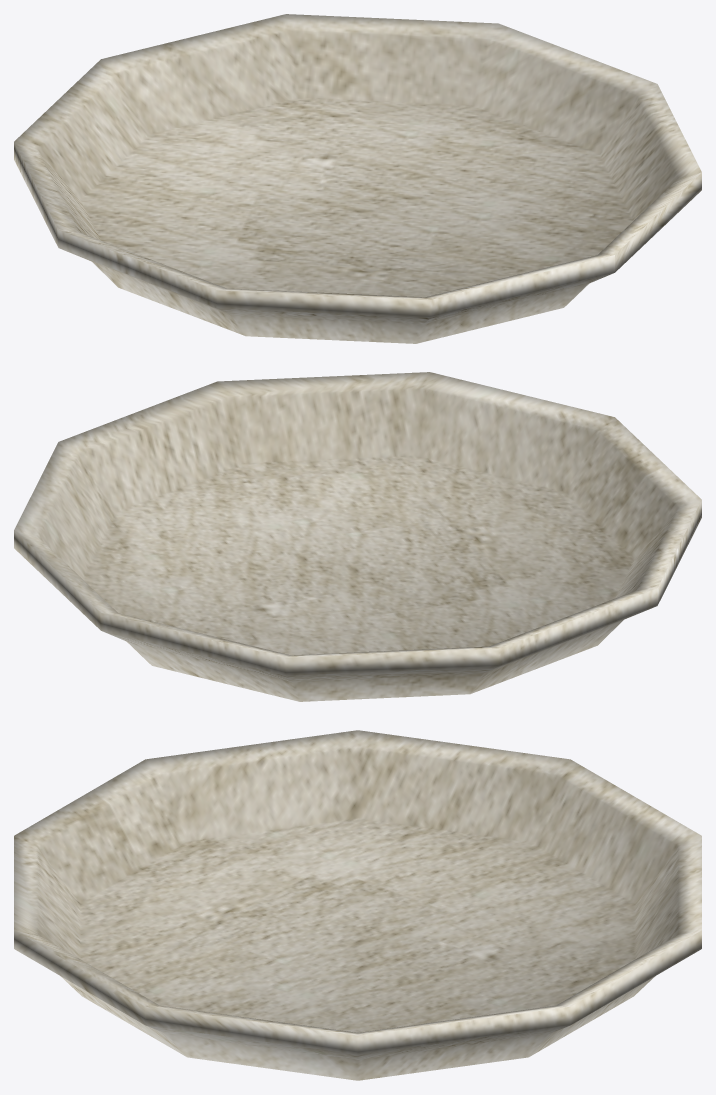
Rendered from dish.fbx.
3 renders of one model, top to bottom at view 1: azimuth 30°, elevation 25°; view 2: azimuth 150°, elevation 25°; view 3: azimuth 270°, elevation 25°, orthographic. The views are drawn at different scales.
Visible parts, largest first — view 1: dish; view 2: dish; view 3: dish.
Boxes of the visible parts, bbox=[...] form: dish: bbox=[14, 14, 701, 343]; dish: bbox=[14, 372, 701, 701]; dish: bbox=[14, 730, 701, 1080].
Size of the model in its own units: 0.24 by 0.0276 by 0.2283.
